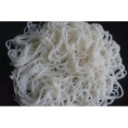idiyappam: (8, 23, 122, 106)
